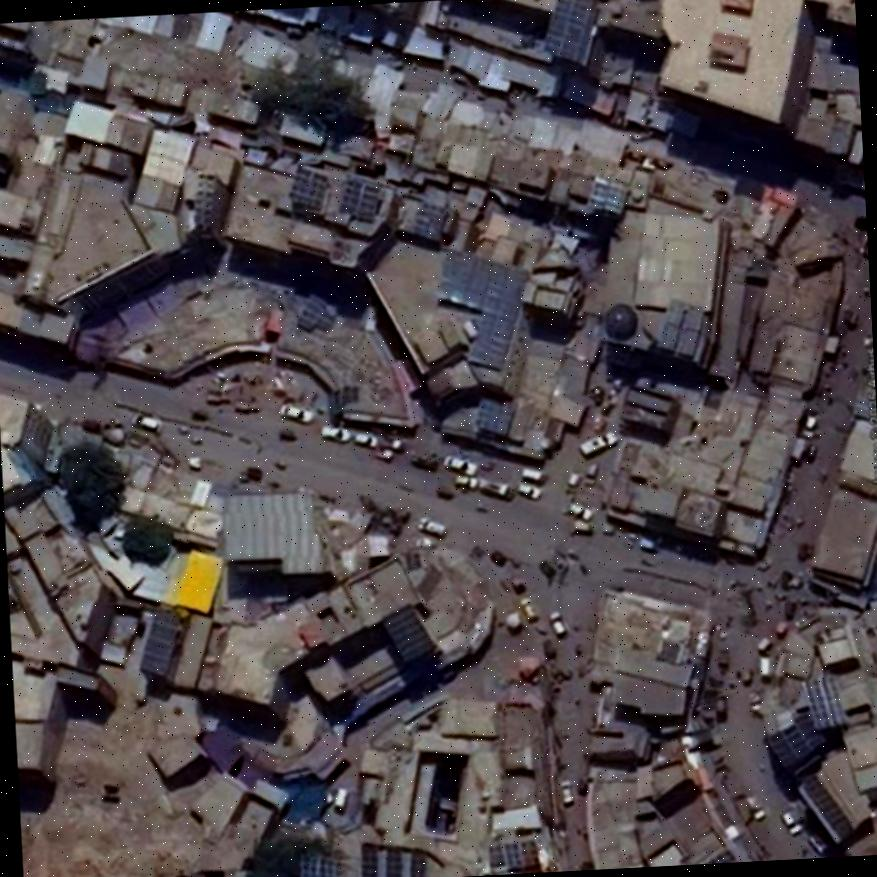Solarpanel: (423, 250, 530, 369), (768, 708, 823, 769), (380, 605, 437, 660), (802, 776, 854, 836), (543, 0, 593, 59), (140, 607, 179, 674), (803, 675, 848, 730), (296, 294, 338, 339), (338, 180, 380, 219), (288, 165, 327, 207), (412, 204, 446, 242), (475, 397, 512, 431), (300, 850, 343, 877), (499, 838, 539, 866), (410, 849, 431, 877), (384, 845, 402, 877), (359, 844, 375, 877)
